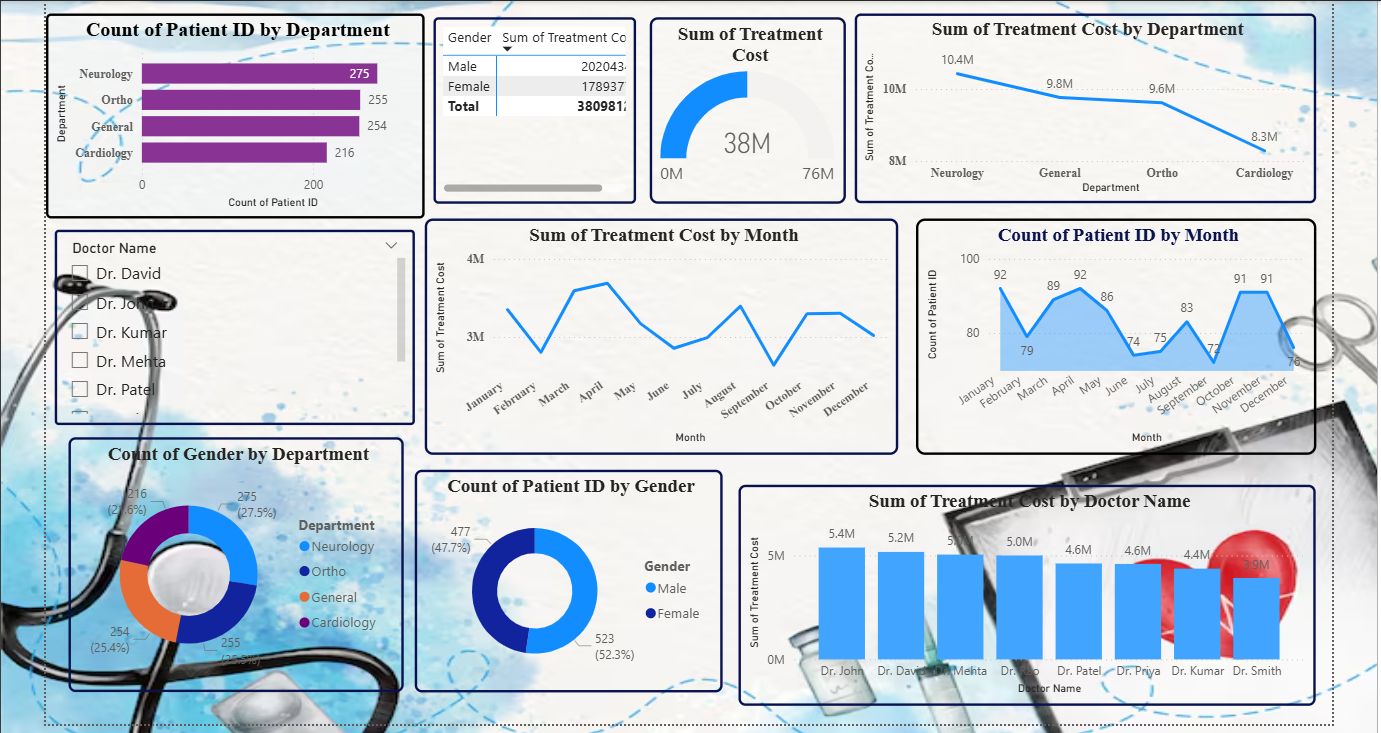

What the dashboard file says about the page in this screenshot:
{"tool":"powerbi","page":{"name":"Page 1","canvas":[1280,720],"ordinal":0},"visuals":[{"type":"barChart","title":"Count of Patient ID by Department","fields":{"Category":["Hospital_Data.Department"],"Y":["Hospital_Data.Patient ID"]},"box":[0,12.4,376.9,204],"z":0},{"type":"lineChart","fields":{"Category":["Hospital_Data.Department"],"Y":["Hospital_Data.Treatment Cost"]},"box":[804.8,12.4,459,189.1],"z":1000},{"type":"donutChart","fields":{"Category":["Hospital_Data.Department"],"Y":["Hospital_Data.Gender"]},"box":[22.4,434.1,333.4,253.8],"z":2000},{"type":"donutChart","fields":{"Category":["Hospital_Data.Gender"],"Y":["Hospital_Data.Patient ID"]},"box":[367,466.5,306,221.4],"z":3000},{"type":"columnChart","fields":{"Category":["Hospital_Data.Doctor Name"],"Y":["Hospital_Data.Treatment Cost"]},"box":[689.2,481.4,574.7,220.2],"z":4000},{"type":"gauge","fields":{"Y":["Hospital_Data.Treatment Cost"]},"box":[600.8,16.2,195.3,185.3],"z":5000},{"type":"pivotTable","fields":{"Rows":["Hospital_Data.Gender"],"Values":["Hospital_Data.Treatment Cost"]},"box":[385.6,16.2,201.5,185.3],"z":6000},{"type":"areaChart","fields":{"Category":["Hospital_Data.Admission Date.Variation.Date Hierarchy.Month"],"Y":["Hospital_Data.Patient ID"]},"box":[865.8,216.4,398.1,235.1],"z":7000},{"type":"lineChart","fields":{"Category":["Hospital_Data.Admission Date.Variation.Date Hierarchy.Month"],"Y":["Hospital_Data.Treatment Cost"]},"box":[376.9,216.4,471.5,235.1],"z":8000},{"type":"slicer","fields":{"Values":["Hospital_Data.Doctor Name"]},"box":[8.7,227.6,358.3,194.1],"z":9000}]}

Visuals, with their boxes in screenshot pixels (x1, y1, x2, y2):
"Count of Patient ID by Department" barChart: crop(43, 12, 422, 217)
lineChart - Hospital_Data.Department x Hospital_Data.Treatment Cost: crop(852, 12, 1313, 202)
donutChart - Hospital_Data.Department x Hospital_Data.Gender: crop(66, 436, 401, 691)
donutChart - Hospital_Data.Gender x Hospital_Data.Patient ID: crop(412, 469, 719, 691)
columnChart - Hospital_Data.Doctor Name x Hospital_Data.Treatment Cost: crop(736, 484, 1313, 705)
gauge - Hospital_Data.Treatment Cost: crop(647, 16, 843, 202)
pivotTable - Hospital_Data.Gender x Hospital_Data.Treatment Cost: crop(431, 16, 633, 202)
areaChart - Hospital_Data.Admission Date.Variation.Date Hierarchy.Month x Hospital_Data.Patient ID: crop(913, 217, 1313, 454)
lineChart - Hospital_Data.Admission Date.Variation.Date Hierarchy.Month x Hospital_Data.Treatment Cost: crop(422, 217, 896, 454)
slicer - Hospital_Data.Doctor Name: crop(52, 229, 412, 424)
